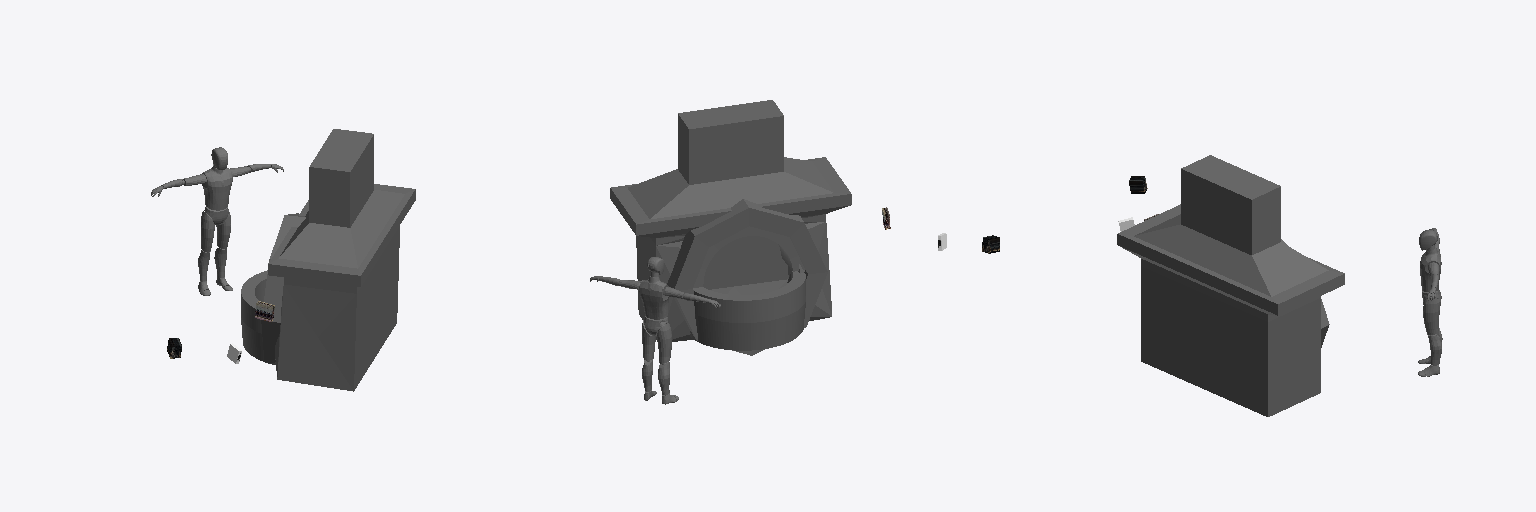
3 views of the same model, side by side, from view 1: azimuth 30°, elevation 25°; view 2: azimuth 150°, elevation 25°; view 3: azimuth 270°, elevation 25° (orthographic).
Visible parts, largest first — view 1: s.0065, s.0051, r.0078, r.0080; view 2: s.0065, r.0080, r.0078, s.0051, r.0086; view 3: s.0065, s.0051.
Part boxes in pixels (x1,y1,x2,y2): s.0065: (268,129,415,391); s.0051: (151,147,283,295); r.0078: (261,213,305,362); r.0080: (241,270,275,364); s.0065: (610,100,851,341); r.0080: (690,270,805,350); r.0078: (667,199,827,355); s.0051: (590,257,720,404); r.0086: (693,226,804,287); s.0065: (1117,155,1344,416); s.0051: (1418,228,1442,376).
Bounding box in the file's own units: 392 × 260 × 348.
5 materials, 3 textured.